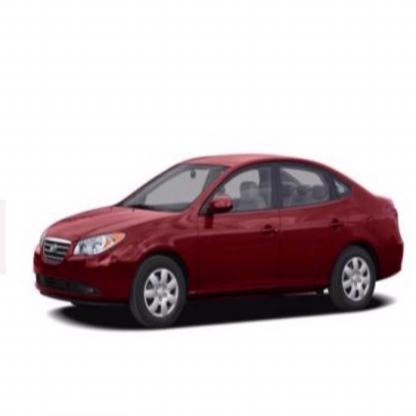Vehicle: (34, 155, 405, 331)
